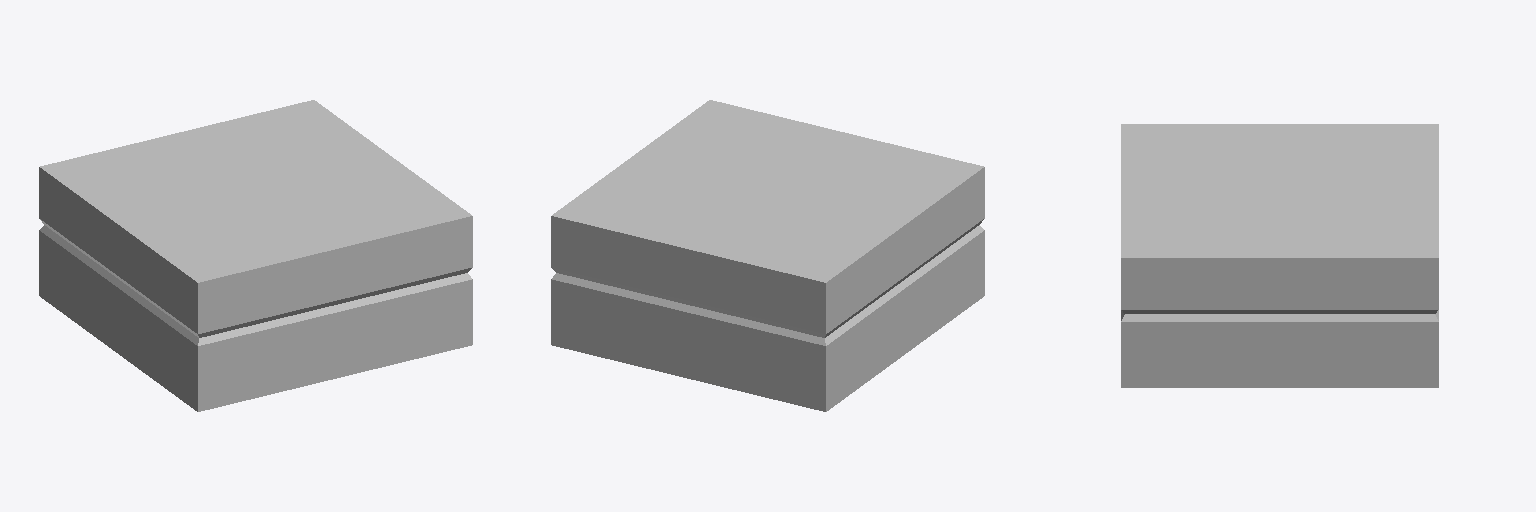
The model's file is square_water_detail.obj.
The picture shows the model from 3 angles: view 1: azimuth 30°, elevation 25°; view 2: azimuth 150°, elevation 25°; view 3: azimuth 270°, elevation 25°; orthographic projection.
Visible parts, largest first — view 1: square_water_detail_Cube.309; view 2: square_water_detail_Cube.309; view 3: square_water_detail_Cube.309.
Boxes of the visible parts, x1,y1,x2,y2 form: square_water_detail_Cube.309: [39, 100, 472, 411]; square_water_detail_Cube.309: [551, 100, 984, 411]; square_water_detail_Cube.309: [1121, 124, 1438, 387].
Size of the model in its own units: 2 by 0.9 by 2.